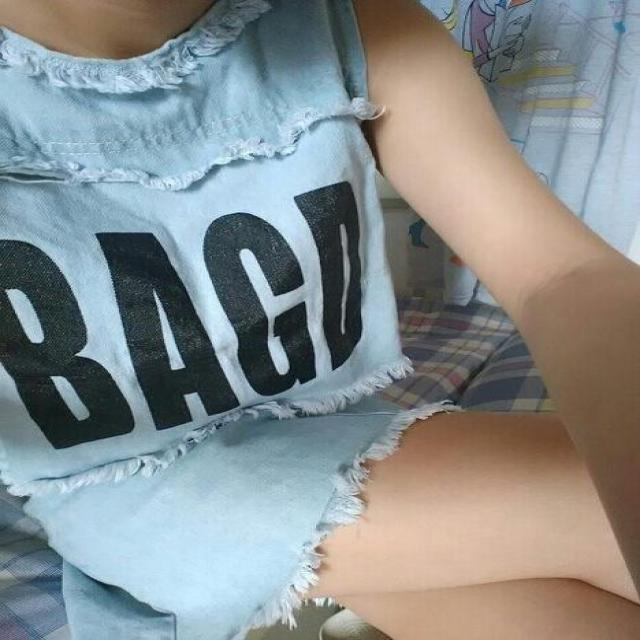skirt: (11, 360, 464, 637)
vest: (4, 1, 413, 496)
